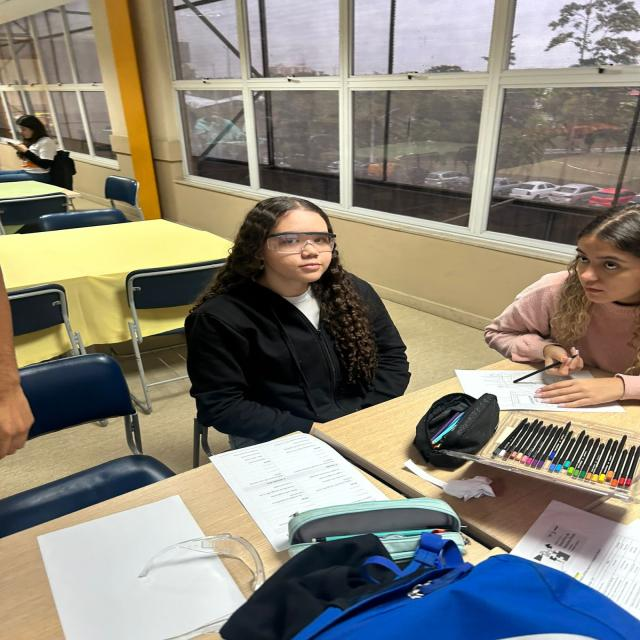oculos-epi: (262, 231, 338, 253)
sem_oculos: (558, 246, 637, 278)
